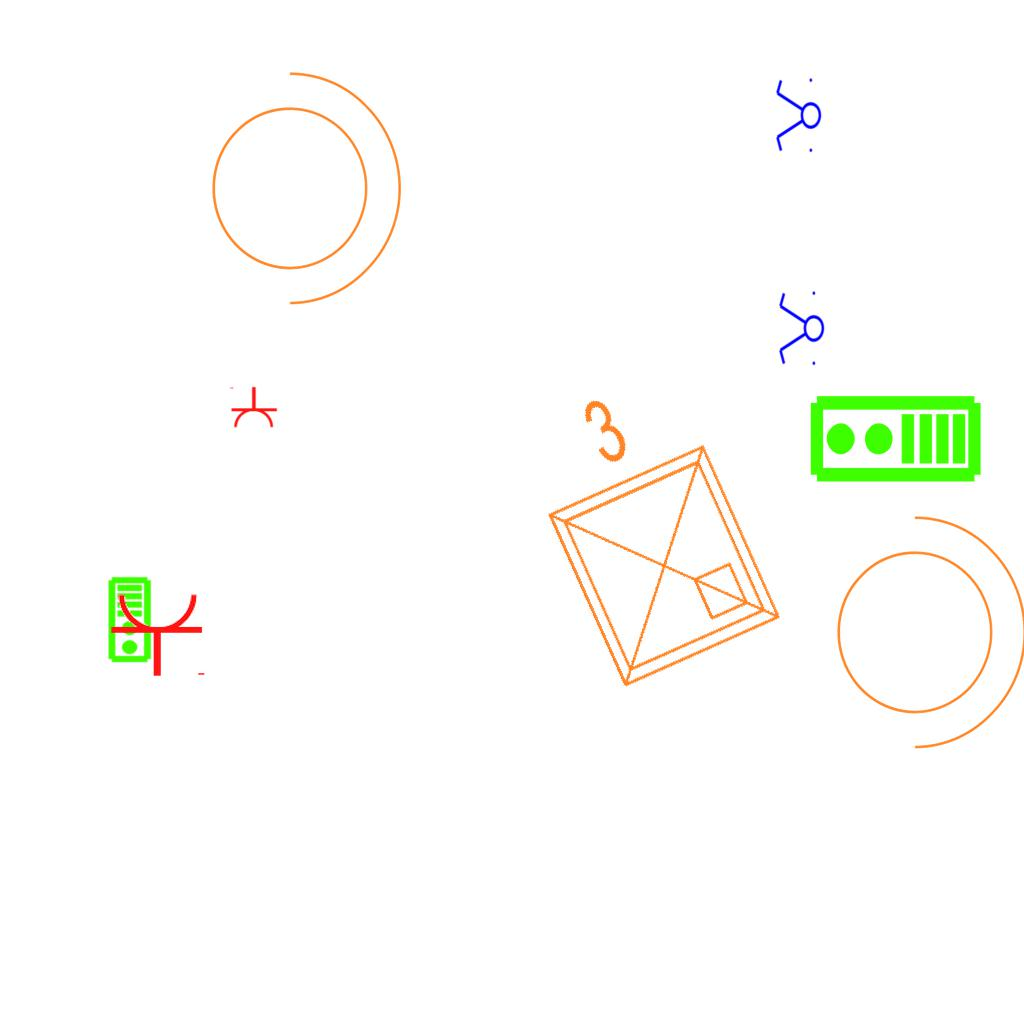Einbaudownlights_LED_Konferenzraeume: (487, 350, 801, 710)
Gegensprechanlage_mit_Video: (807, 393, 983, 488), (107, 576, 154, 664)
Scheinwerfer_fuer_Alarmbeleuchtung: (187, 50, 412, 314), (812, 494, 1024, 758)
Schukosteckdose_einfach: (109, 591, 209, 678), (228, 386, 278, 429)
Serienschalter: (777, 287, 825, 371), (774, 74, 822, 158)
